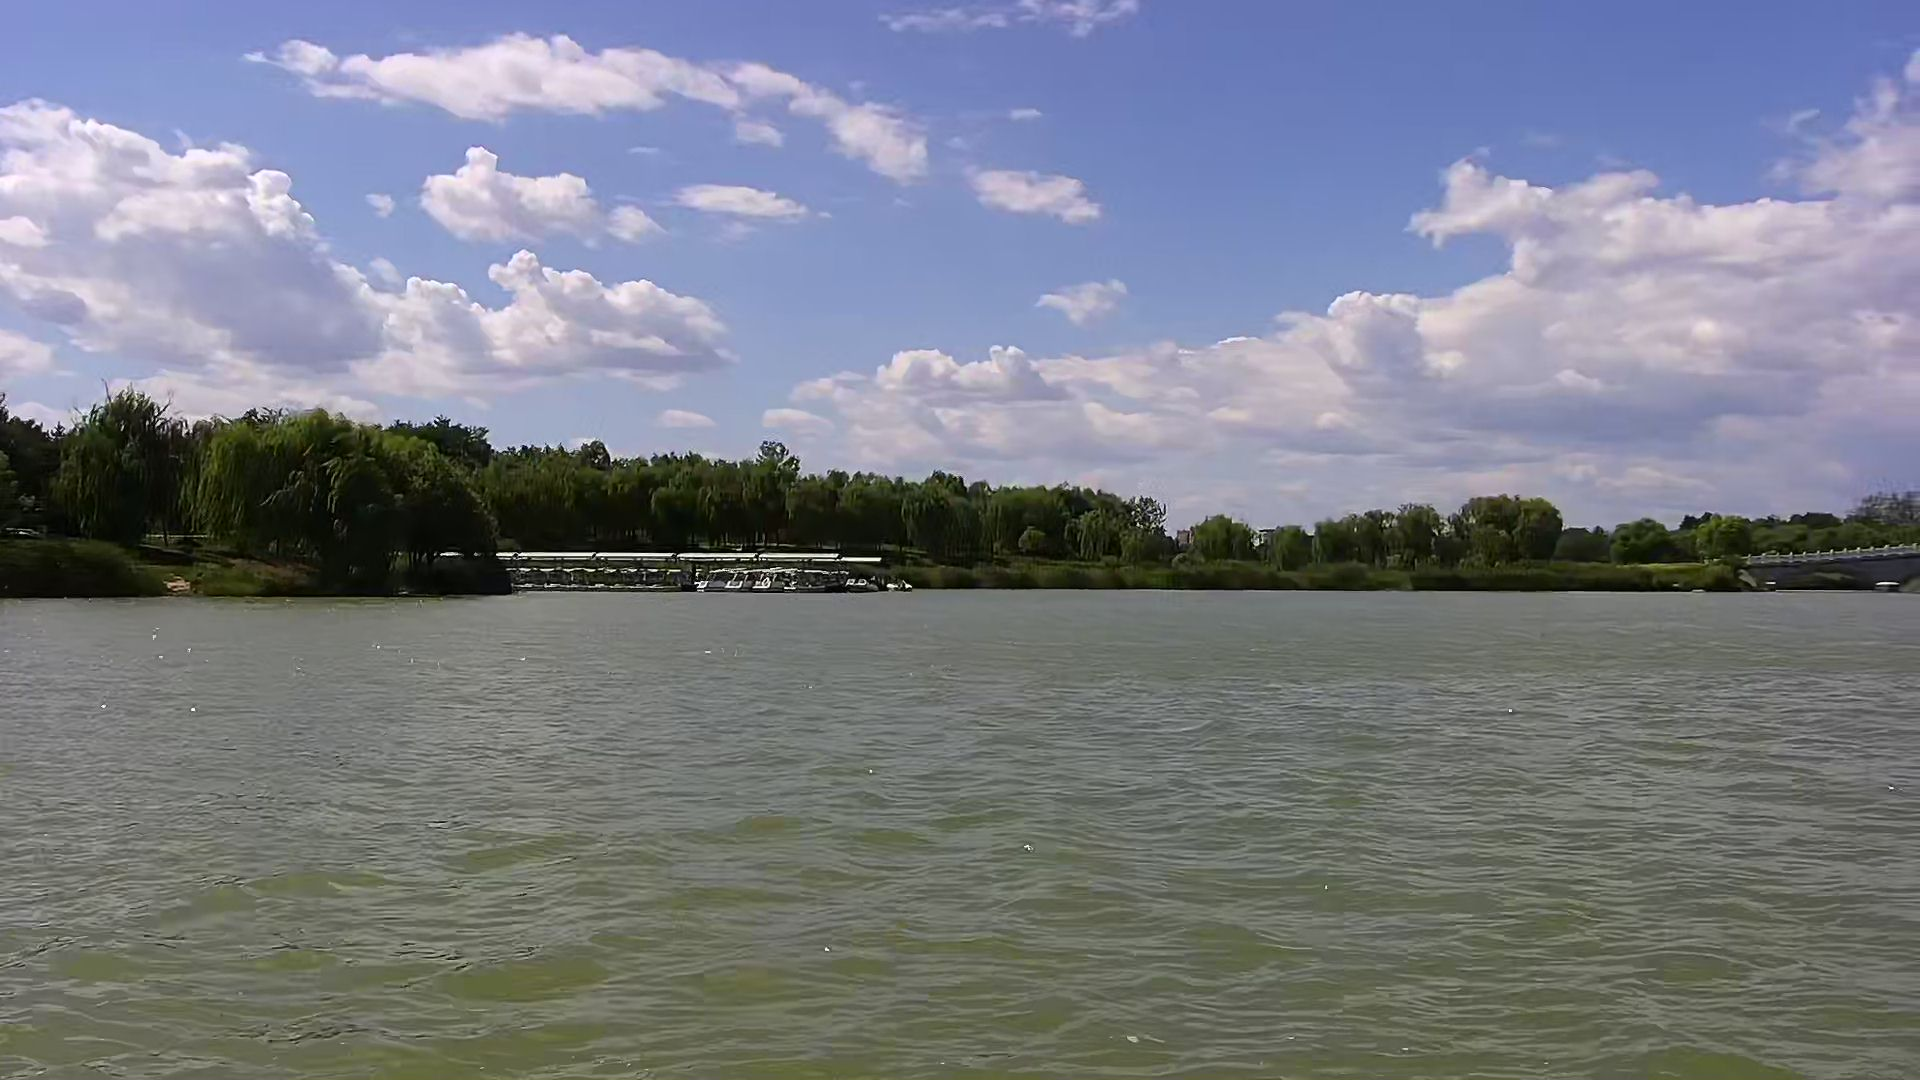bridge: (1742, 534, 1920, 595)
harbor: (491, 549, 906, 593)
